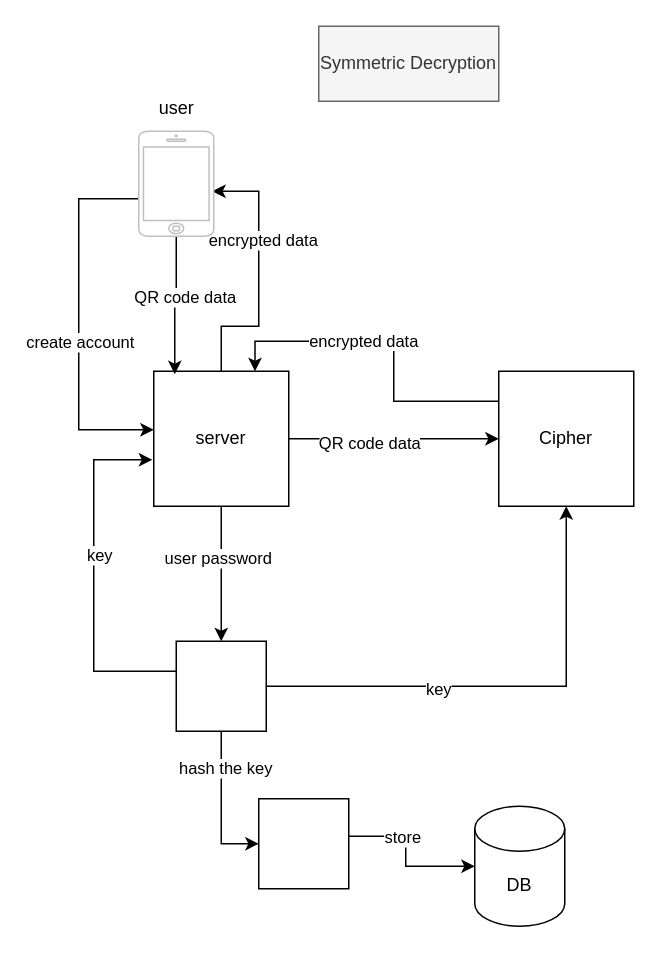
Some shapes in this 660 by 953 pixel diagram are drawn without their labels. The shapes that lost their labels are listed below. From the top down, each one's centre as x and y in pixels, then its label:
At pixel 220 685: "KDF".
At pixel 303 843: "Hashing algorithm".
